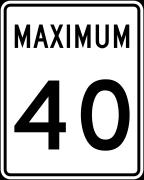Speed limit -40-: (3, 68, 144, 157)
